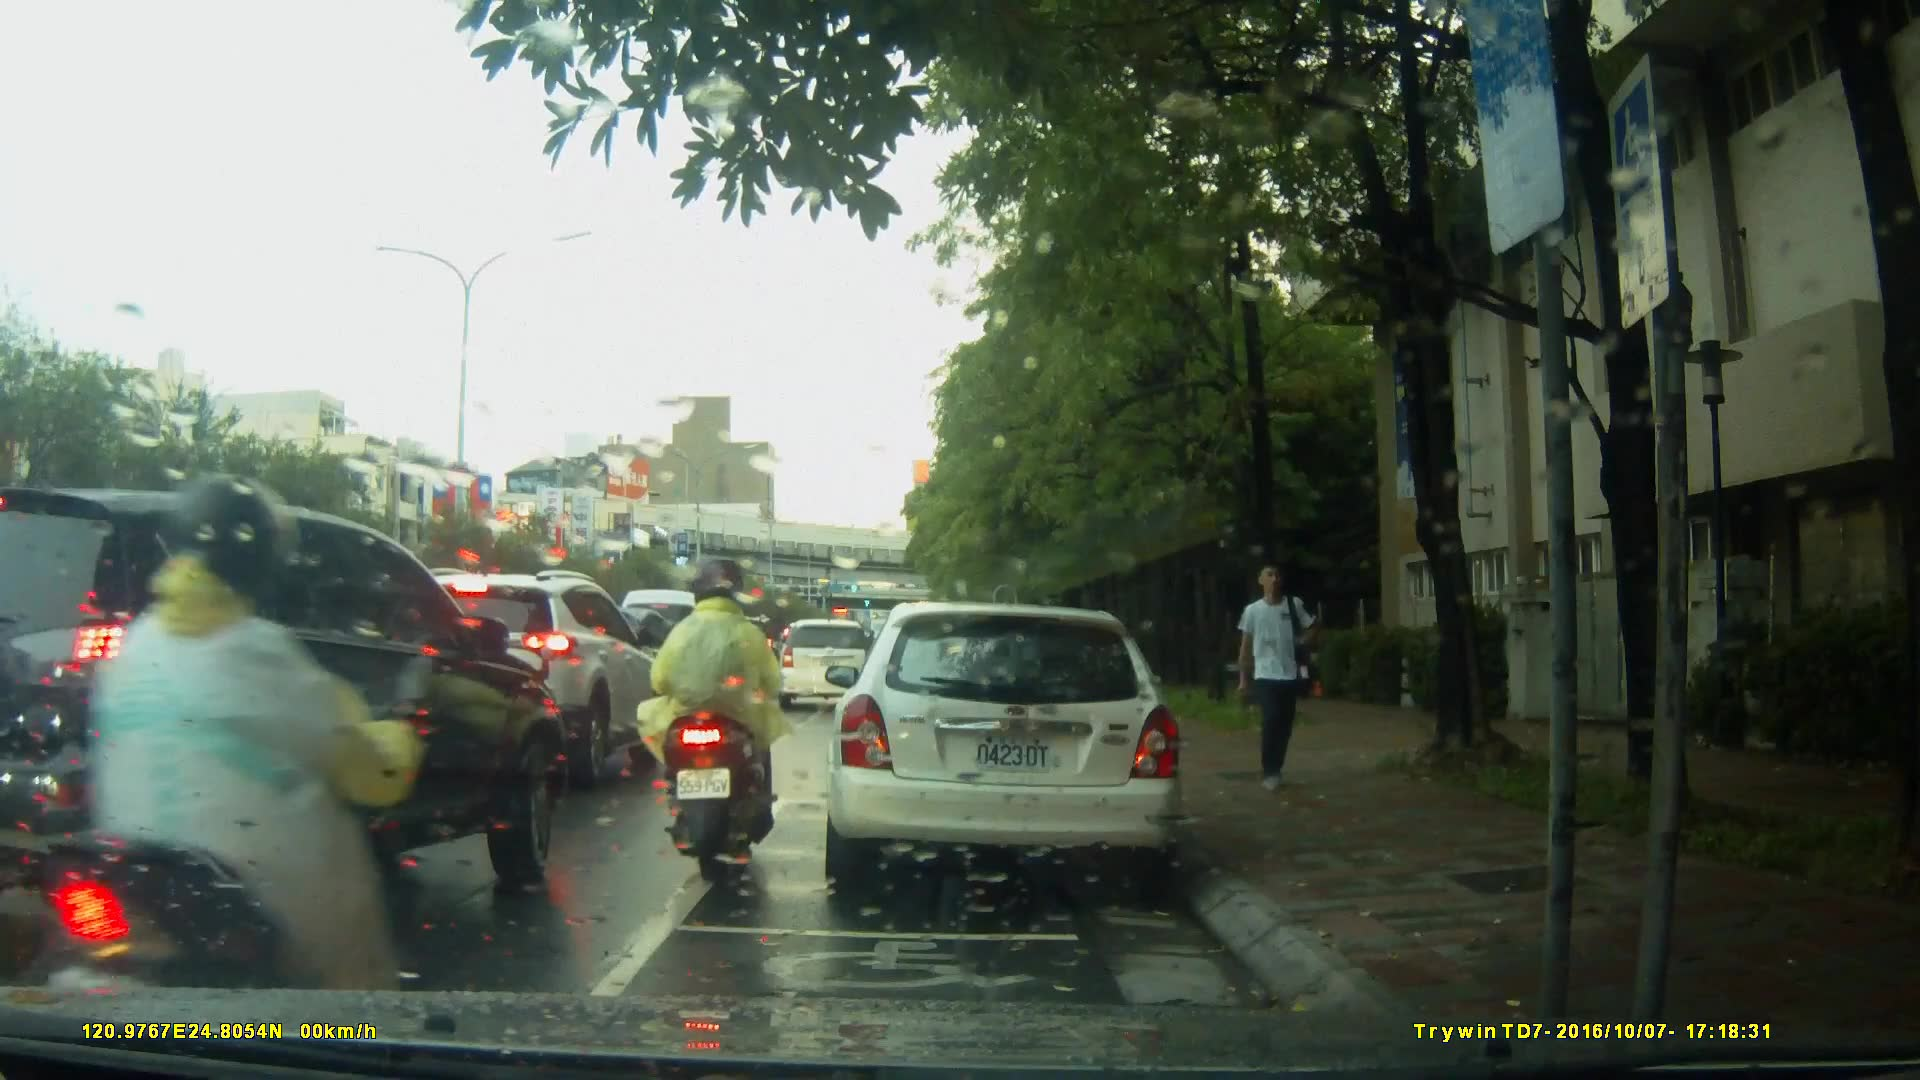pedestrian: (1226, 558, 1323, 803)
rider: (50, 483, 419, 1049), (651, 556, 797, 881)
vehicle: (1, 480, 572, 972), (820, 602, 1188, 898), (362, 566, 669, 784), (612, 588, 732, 717), (771, 617, 880, 711)
